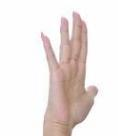down: (40, 10, 96, 125)
